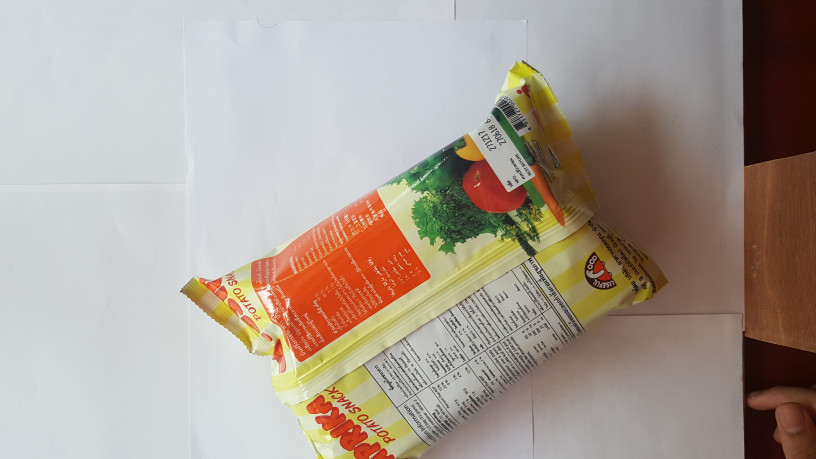paprika: (172, 44, 675, 459)
